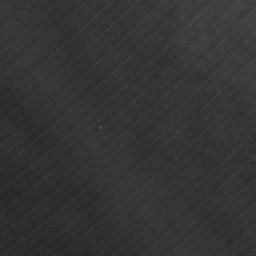Target: (97, 124, 103, 130)
